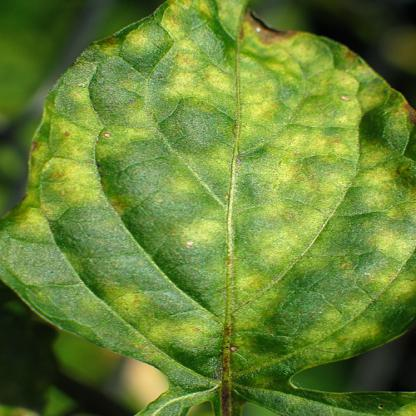tomato mold leaf: (1, 4, 414, 415)
